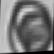correct: (3, 0, 54, 54)
